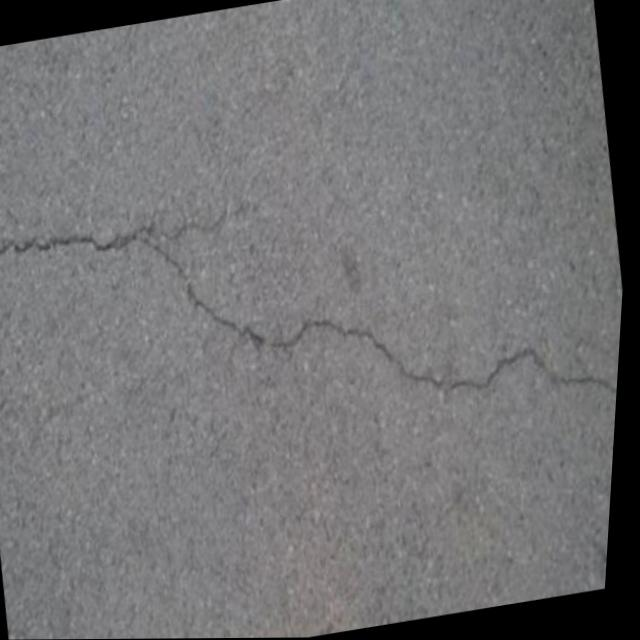Crack: (0, 128, 634, 507)
